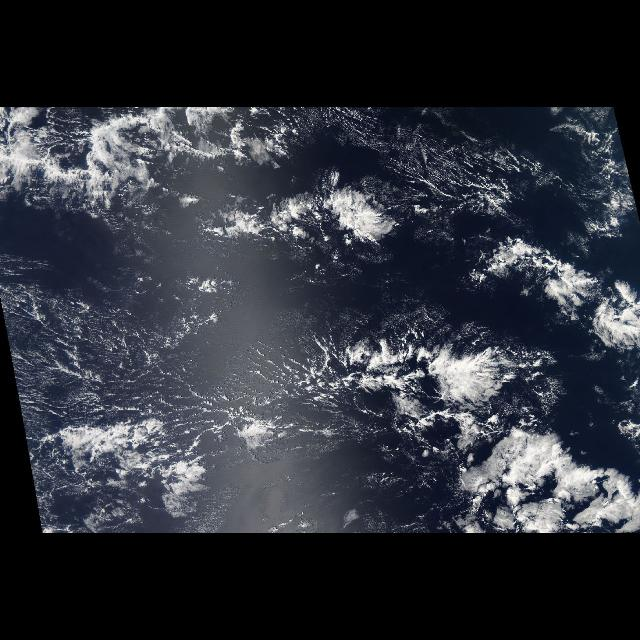Fish: (6, 110, 397, 276)
Sugar: (7, 289, 249, 411)
